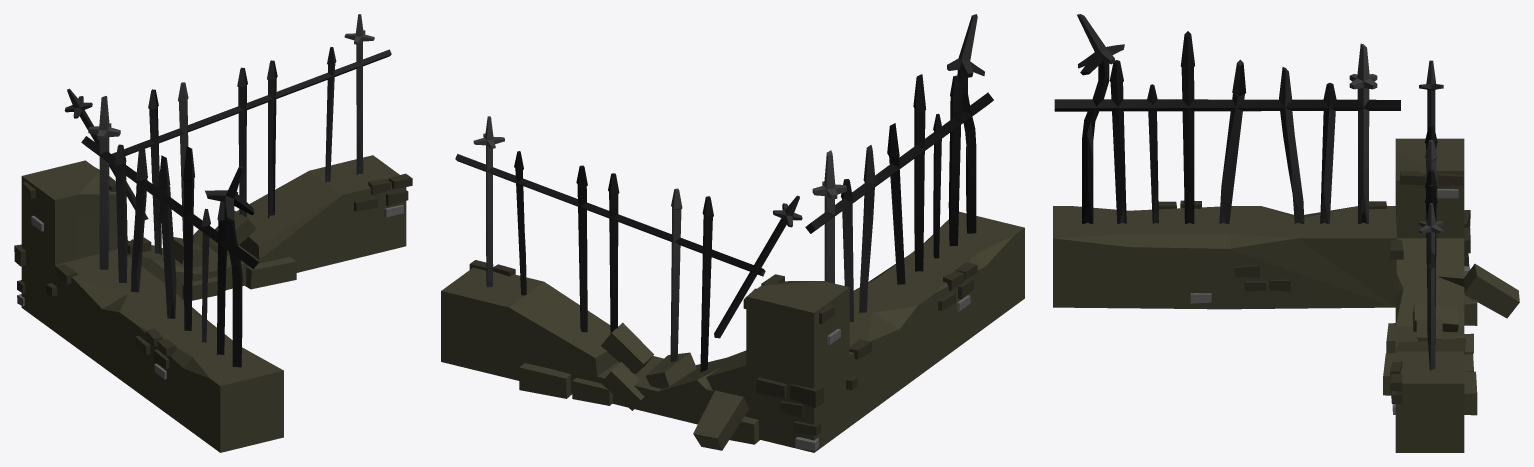
The model's file is ea_arch_wall03_corner_01b_pre_3_lev1.glb.
3 renders of one model, left to right at view 1: azimuth 30°, elevation 25°; view 2: azimuth 150°, elevation 25°; view 3: azimuth 270°, elevation 25°, orthographic. The views are drawn at different scales.
Parts seen in each view (by area): view 1: ea_arch_wall03_corner_01b_pre_3_lev1; view 2: ea_arch_wall03_corner_01b_pre_3_lev1; view 3: ea_arch_wall03_corner_01b_pre_3_lev1.
Part boxes in pixels (x1,y1,x2,y2): ea_arch_wall03_corner_01b_pre_3_lev1: (14,14,412,452); ea_arch_wall03_corner_01b_pre_3_lev1: (441,14,1024,452); ea_arch_wall03_corner_01b_pre_3_lev1: (1053,14,1519,452).
Bounding box in the file's own units: 4.5 × 3.23 × 4.87.
1 material, 1 textured.
